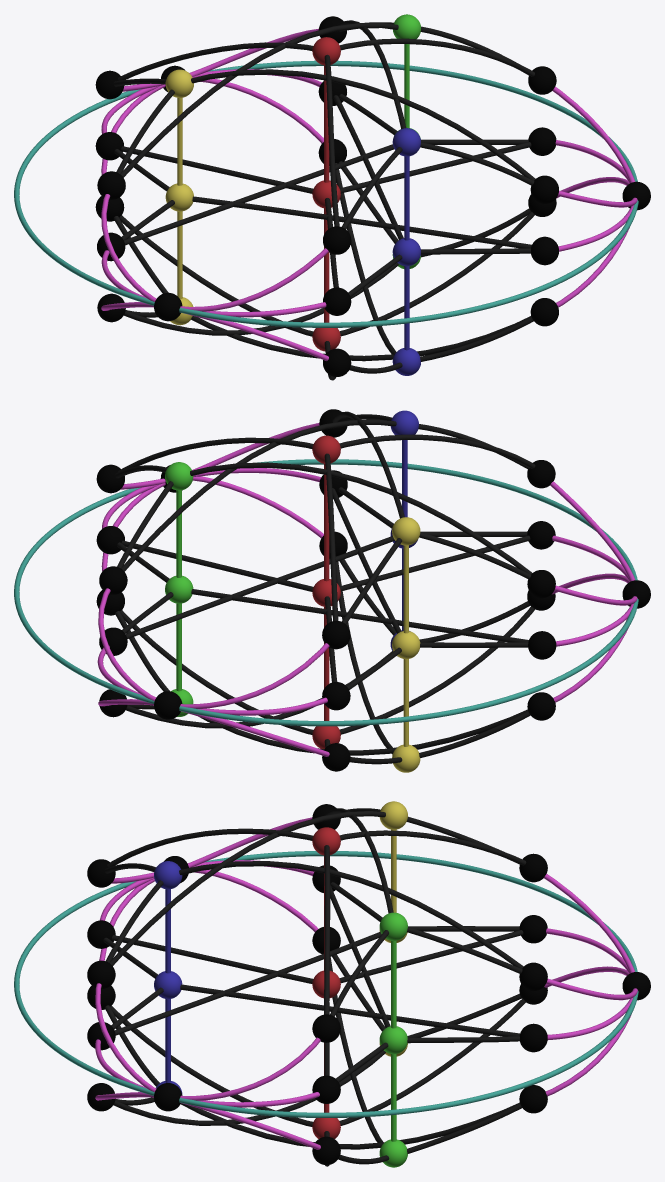
The model's file is Tata_hipergraf_007.glb.
The picture shows the model from 3 angles, top to bottom: view 1: azimuth 30°, elevation 25°; view 2: azimuth 150°, elevation 25°; view 3: azimuth 270°, elevation 25°; orthographic projection.
Parts seen in each view (by area): view 1: kruznica, Curve.059, Curve.013, Curve.060, Curve.002, Curve.014, Curve.072, Curve.073, Curve.050, Curve.076, Curve.041, Curve.036 (+46 smaller); view 2: kruznica, Curve.060, Curve.014, Curve.061, Curve.052, Curve.017, Curve.073, Curve.002, Curve.065, Curve.035, Curve.062, Curve.041 (+46 smaller); view 3: kruznica, Curve.061, Curve.017, Curve.059, Curve.050, Curve.013, Curve.074, Curve.052, Curve.072, Curve.035, Curve.075, Curve.023 (+45 smaller).
Part boxes in pixels (x1,y1,x2,y2): kruznica: [14, 60, 638, 327]; Curve.059: [191, 69, 535, 180]; Curve.013: [192, 196, 531, 248]; Curve.060: [120, 23, 398, 177]; Curve.002: [101, 194, 328, 311]; Curve.014: [124, 144, 393, 245]; Curve.072: [191, 316, 531, 361]; Curve.073: [124, 262, 398, 335]; Curve.050: [552, 87, 637, 207]; Curve.076: [101, 79, 323, 174]; Curve.041: [339, 38, 534, 76]; Curve.036: [118, 42, 313, 80]; kruznica: [14, 459, 638, 726]; Curve.060: [190, 462, 532, 574]; Curve.014: [191, 589, 528, 642]; Curve.061: [121, 419, 396, 571]; Curve.052: [98, 588, 329, 708]; Curve.017: [125, 536, 394, 638]; Curve.073: [198, 709, 527, 755]; Curve.002: [550, 481, 637, 605]; Curve.065: [101, 476, 323, 570]; Curve.035: [339, 434, 535, 468]; Curve.062: [339, 606, 535, 734]; Curve.041: [118, 437, 313, 472]; kruznica: [14, 851, 638, 1117]; Curve.061: [179, 861, 523, 968]; Curve.017: [180, 984, 519, 1036]; Curve.059: [109, 811, 385, 965]; Curve.050: [95, 983, 320, 1100]; Curve.013: [114, 931, 381, 1035]; Curve.074: [181, 1102, 519, 1149]; Curve.052: [544, 873, 637, 1000]; Curve.072: [113, 1050, 385, 1125]; Curve.035: [107, 828, 313, 867]; Curve.075: [99, 870, 318, 960]; Curve.023: [112, 935, 313, 983].
Bounding box in the file's own units: 1.07 × 0.5898 × 1.09.
